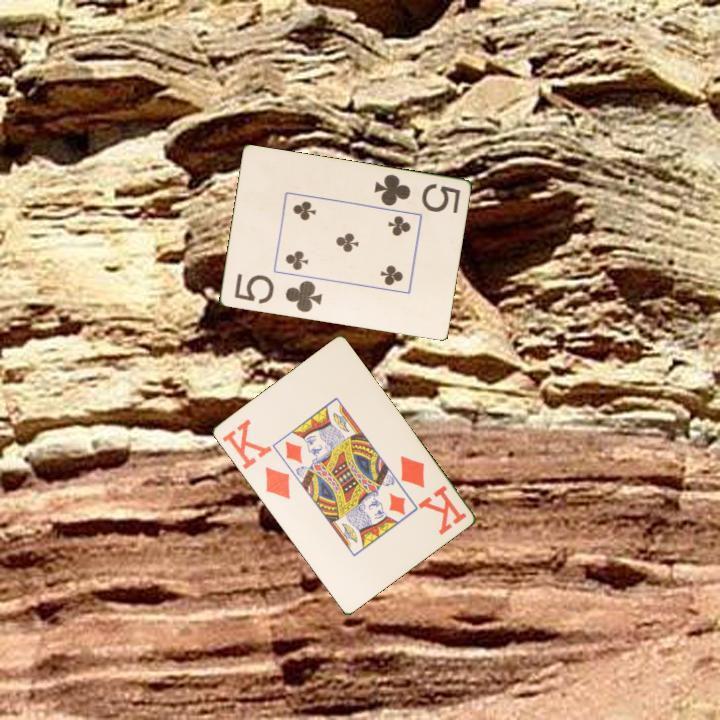5c: (231, 270, 325, 316), (370, 171, 463, 217)
Kd: (218, 415, 293, 502), (396, 452, 470, 537)
